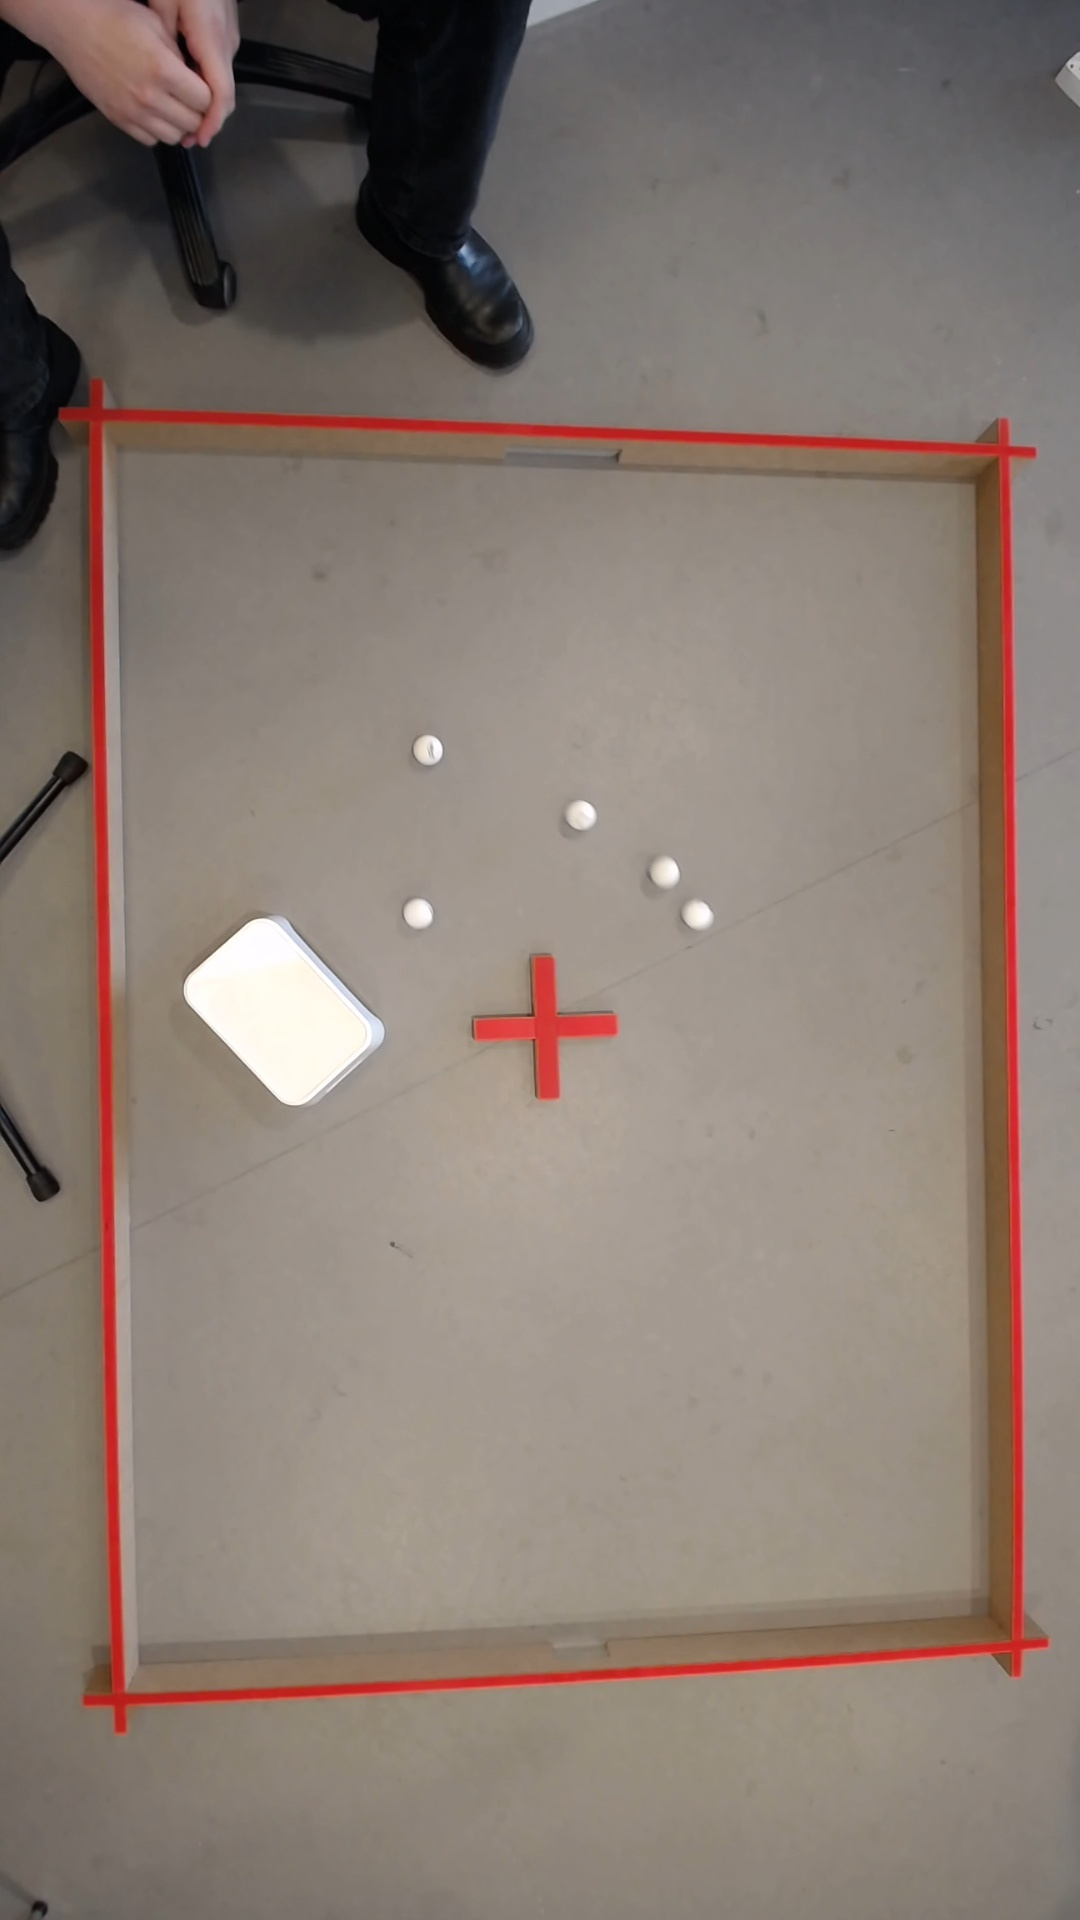balls: (173, 899, 390, 1120), (153, 45, 210, 99), (400, 894, 436, 931), (679, 897, 716, 934), (650, 855, 683, 889), (570, 800, 595, 828), (418, 735, 443, 762)
car: (210, 50, 228, 86)
